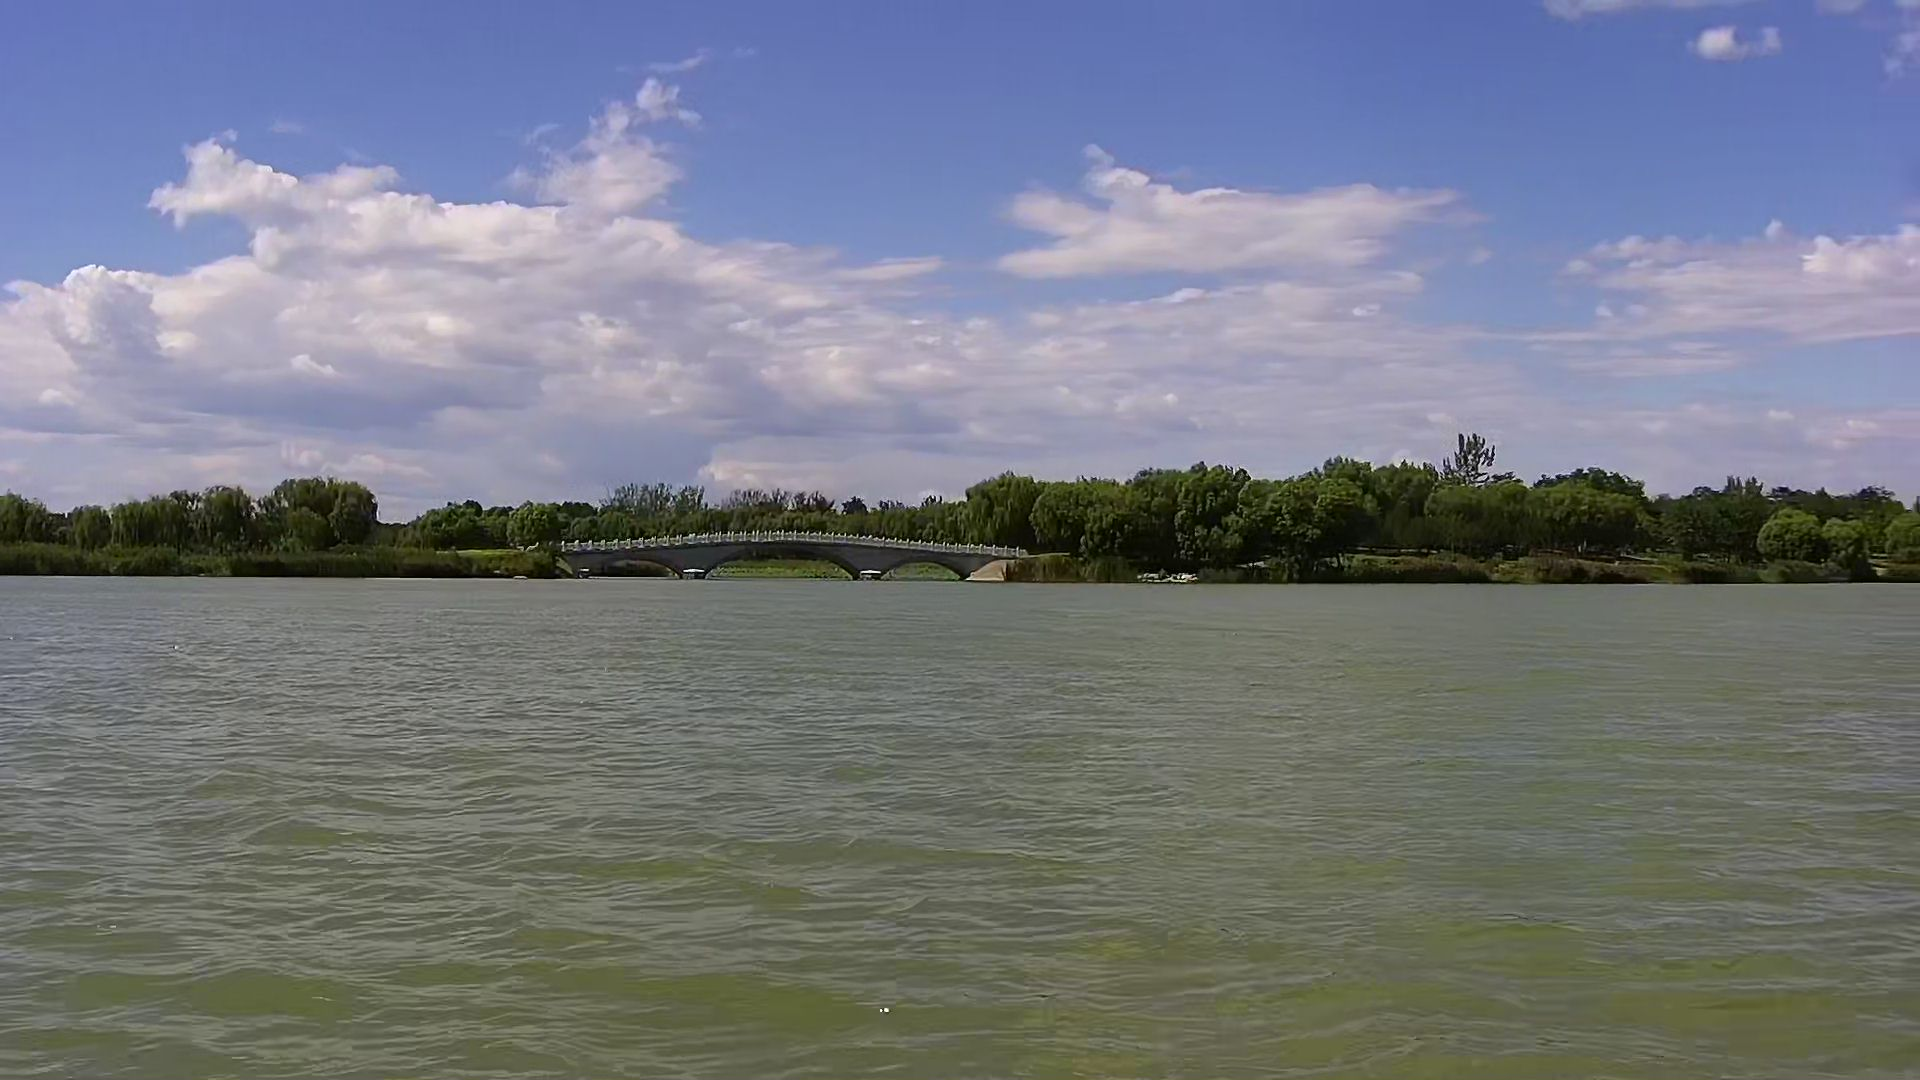bridge: (541, 520, 1019, 582)
